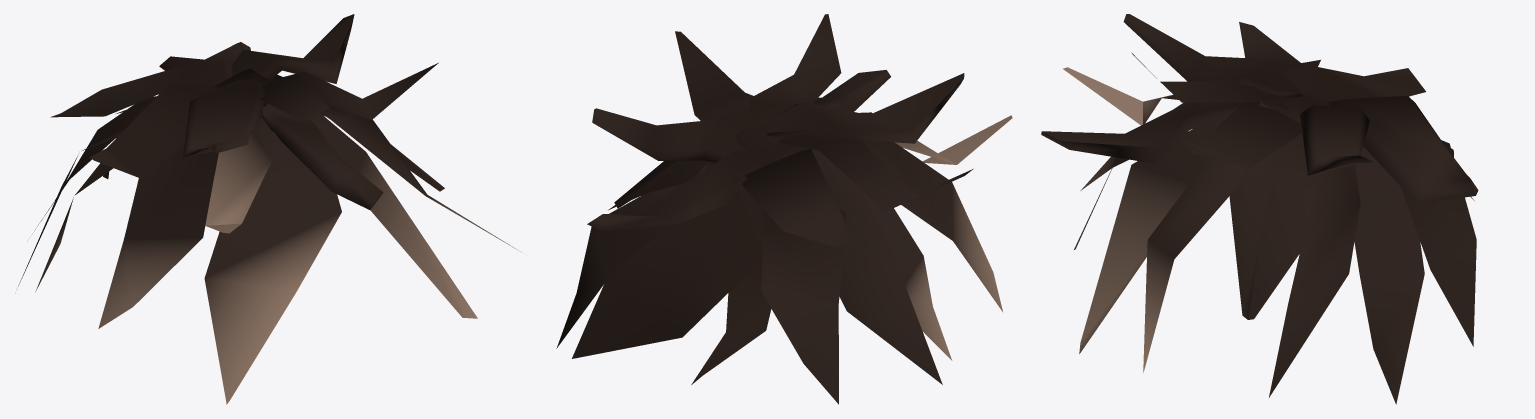
File: hat_c4bra.glb
3 views of the same model, side by side, from view 1: azimuth 30°, elevation 25°; view 2: azimuth 150°, elevation 25°; view 3: azimuth 270°, elevation 25° (orthographic). The views are drawn at different scales.
Visible parts, largest first — view 1: hat_c4bra; view 2: hat_c4bra; view 3: hat_c4bra.
Boxes of the visible parts, x1,y1,x2,y2 form: hat_c4bra: [18, 14, 521, 404]; hat_c4bra: [556, 14, 1012, 404]; hat_c4bra: [1041, 14, 1478, 404].
Size of the model in its own units: 0.4908 by 0.3136 by 0.4835.
